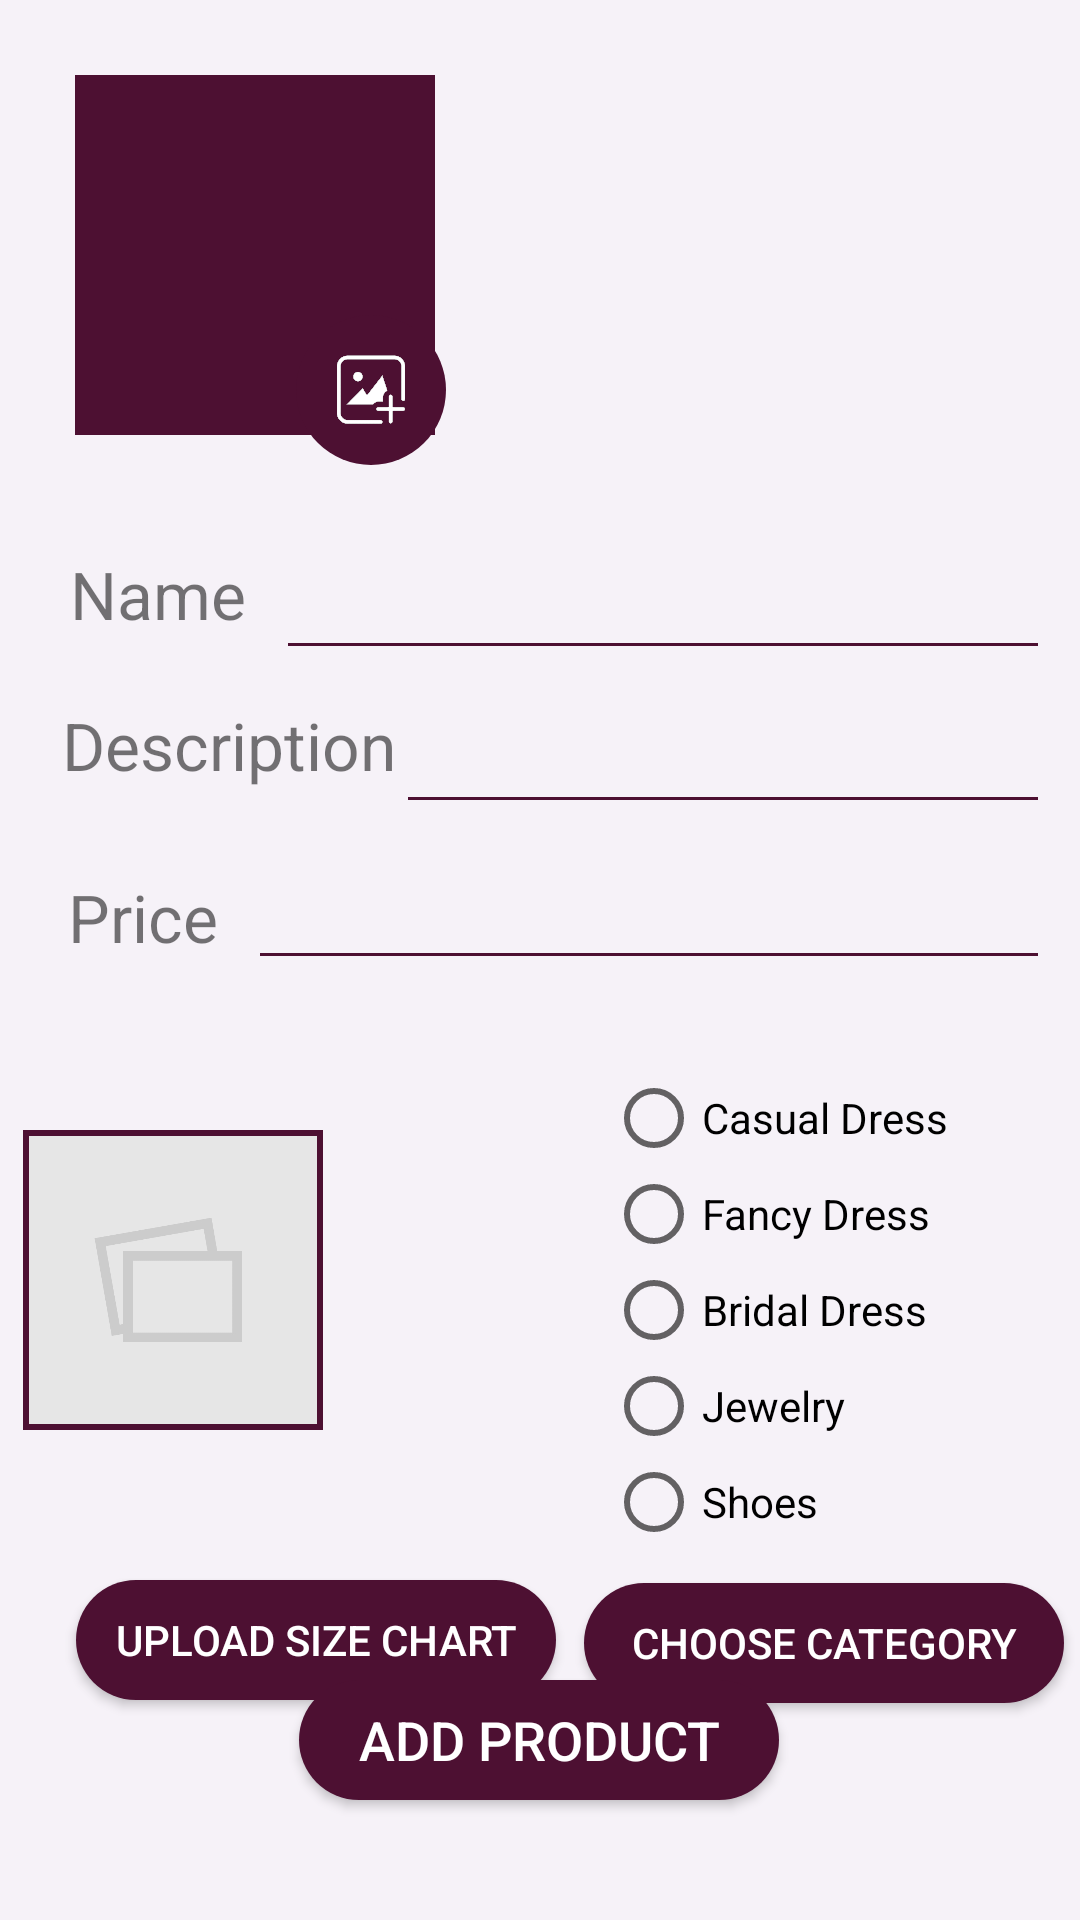

Point at icon controls on the screen. Image size 1080px x 1920px, points as [x,y].
upload: [371,390]
